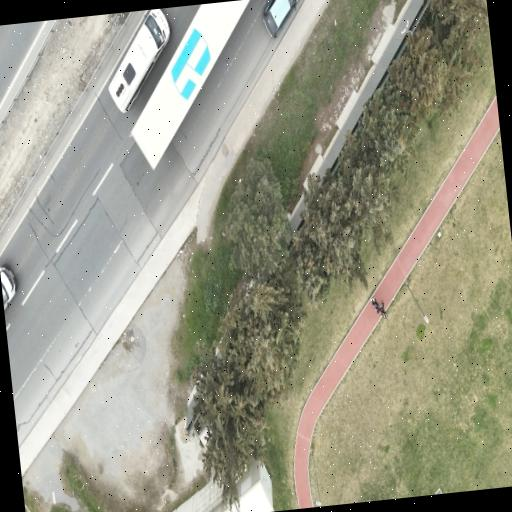car: (107, 9, 169, 111), (263, 0, 297, 36), (0, 267, 14, 309)
person: (370, 297, 380, 313), (378, 301, 386, 318)
truck: (131, 0, 248, 167)
